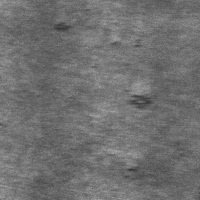rolled-in_scale: (51, 20, 148, 47), (119, 84, 157, 112)
